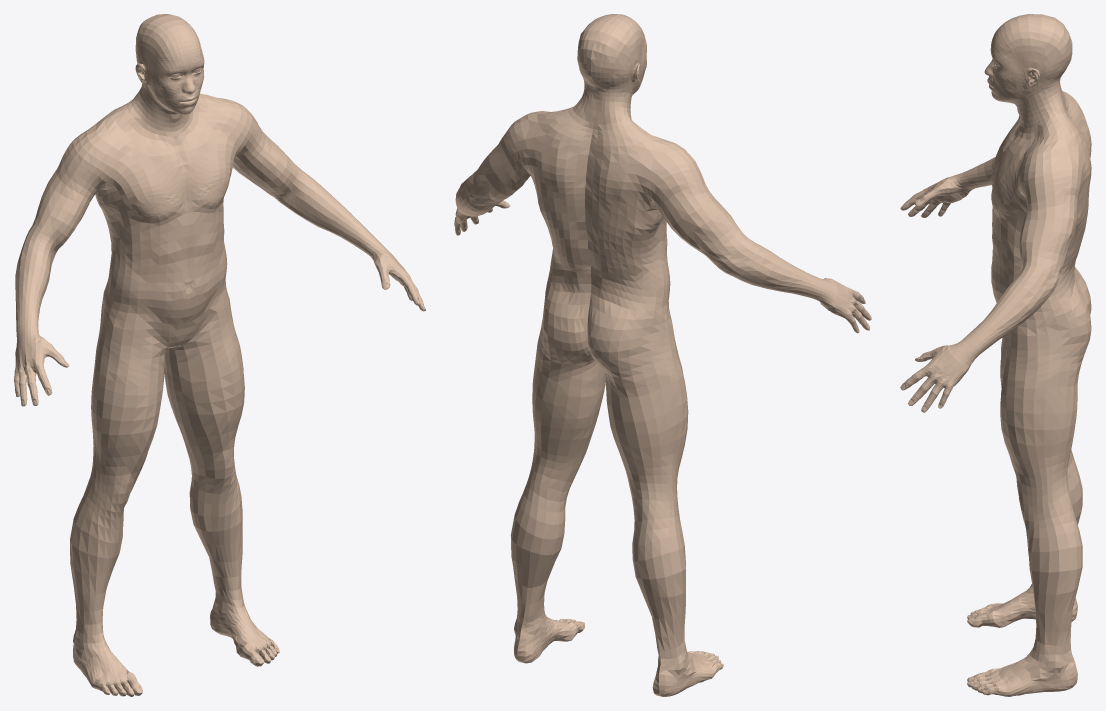
File: male-young-heavy-high.glb
The picture shows the model from 3 angles, left to right: view 1: azimuth 30°, elevation 25°; view 2: azimuth 150°, elevation 25°; view 3: azimuth 270°, elevation 25°; orthographic projection.
Parts seen in each view (by area): view 1: world; view 2: world; view 3: world.
Boxes of the visible parts, x1,y1,x2,y2 form: world: (14, 14, 425, 696); world: (454, 14, 871, 696); world: (900, 14, 1091, 696).
Size of the model in its own units: 1.24 by 1.89 by 0.512.
